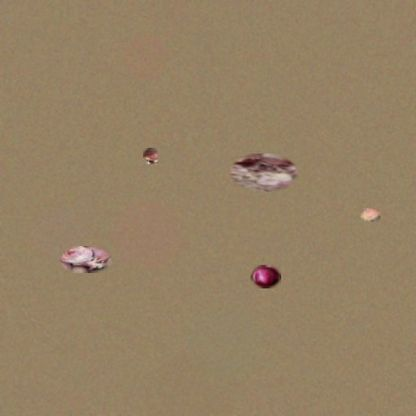damaged: (361, 208, 380, 222)
healthy: (250, 265, 281, 288)
rotten: (228, 154, 298, 192)
sprouted: (59, 246, 111, 273), (143, 148, 158, 164)
